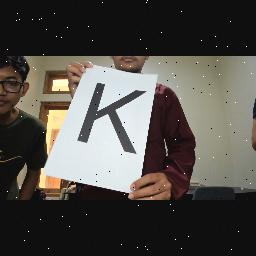k: (70, 77, 140, 165)
